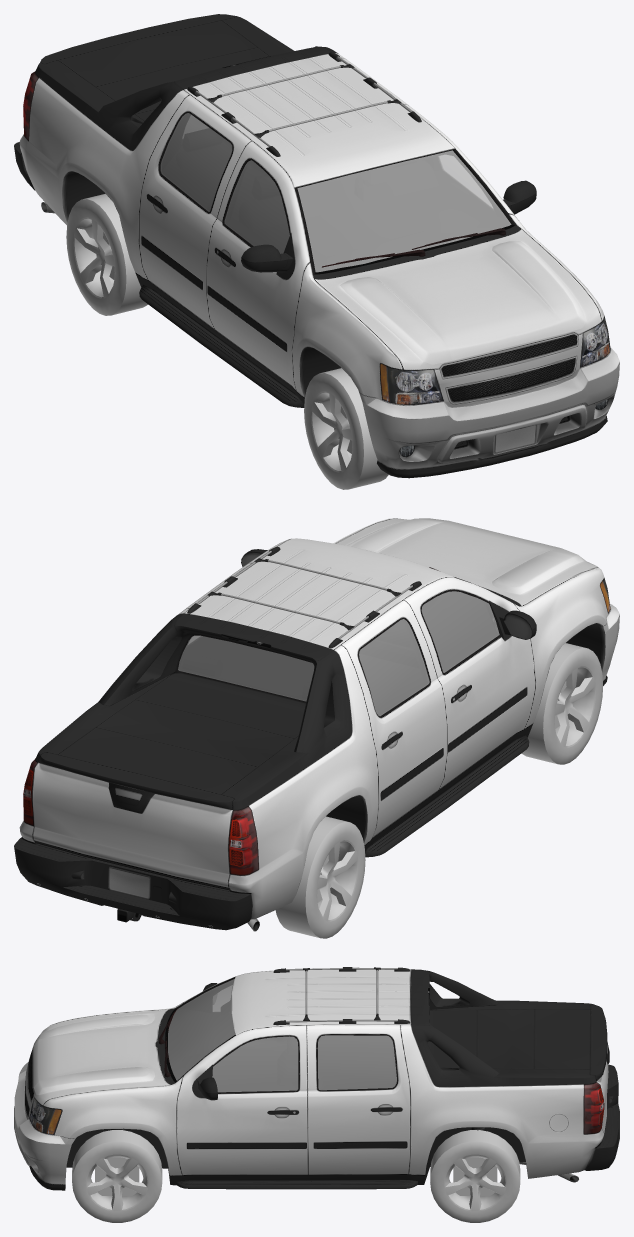
Rendered from Jeep.FBX.
The picture shows the model from 3 angles, top to bottom: view 1: azimuth 30°, elevation 25°; view 2: azimuth 150°, elevation 25°; view 3: azimuth 270°, elevation 25°; orthographic projection. The views are drawn at different scales.
Visible parts, largest first — view 1: Jeep_LOD0, Wheels_FR_LOD0, Wheels_RR_LOD0; view 2: Jeep_LOD0, Wheels_RR_LOD0, Wheels_FR_LOD0; view 3: Jeep_LOD0, Wheels_RL_LOD0, Wheels_FL_LOD0.
Part boxes in pixels (x1=…): Jeep_LOD0: x1=14, y1=14, x2=619, y2=478; Wheels_FR_LOD0: x1=304, y1=368, x2=388, y2=489; Wheels_RR_LOD0: x1=66, y1=193, x2=147, y2=315; Jeep_LOD0: x1=14, y1=518, x2=619, y2=931; Wheels_RR_LOD0: x1=275, y1=816, x2=365, y2=938; Wheels_FR_LOD0: x1=521, y1=643, x2=602, y2=764; Jeep_LOD0: x1=14, y1=967, x2=619, y2=1190; Wheels_RL_LOD0: x1=430, y1=1130, x2=520, y2=1222; Wheels_FL_LOD0: x1=72, y1=1130, x2=162, y2=1222.
Size of what is drawn, in the model's own units: 2.35 by 5.61 by 1.92.
